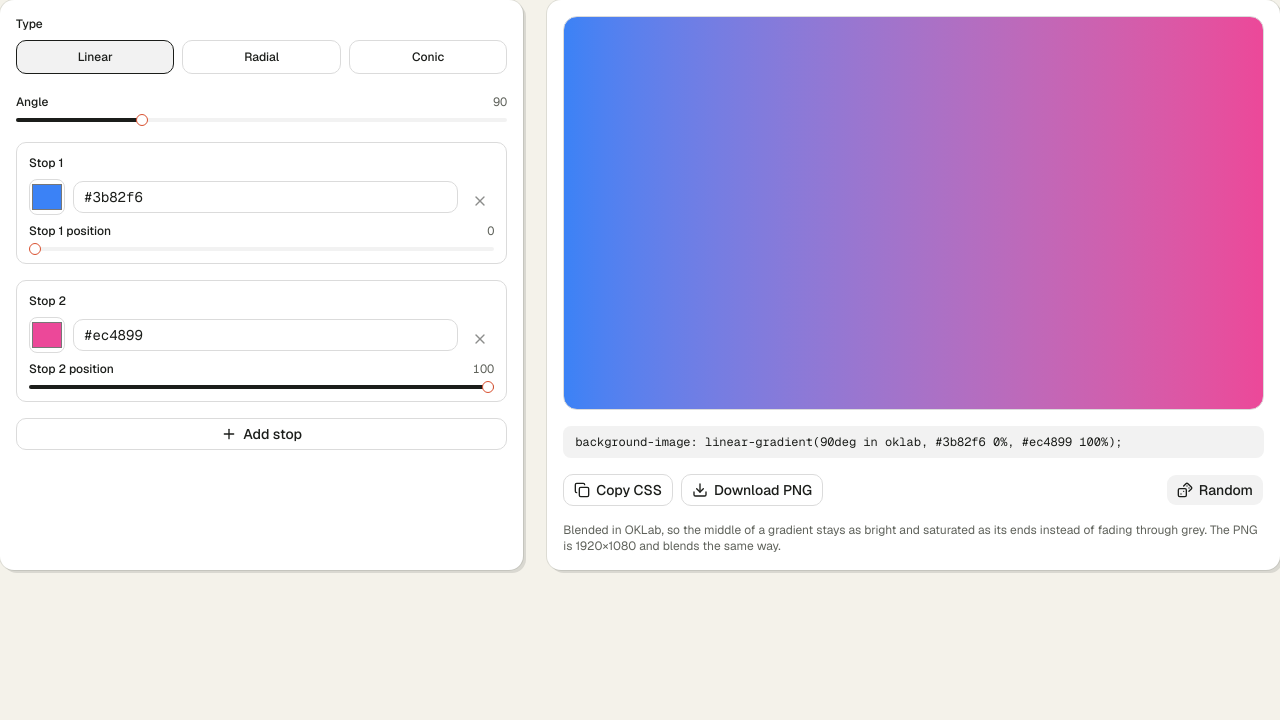
Test: GradientGeneratorTool › adds a stop in the middle and removes it again
Expected: the button named "Remove stop 1" is disabled, [466,187,494,215]
Click the button "Add stop": (262, 434) [16,418,507,450]
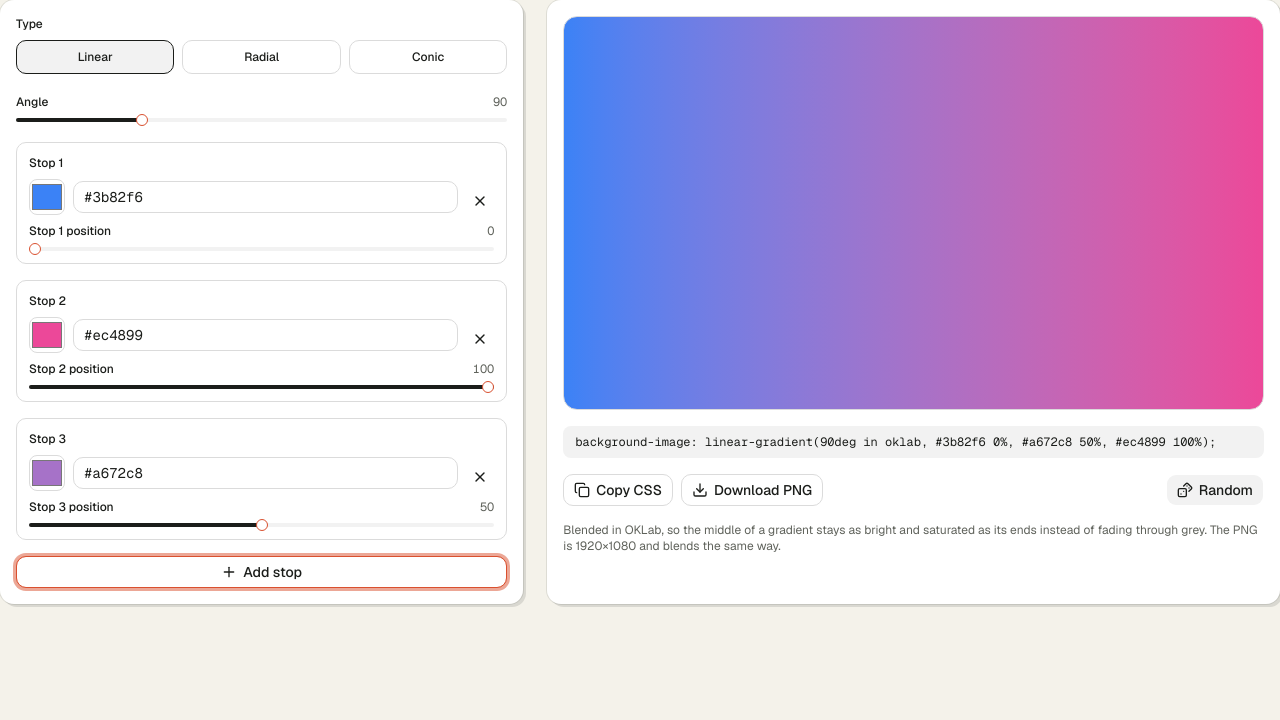
Expected: the text "background-image:" shows "50%,", [705,434,1209,450]
Expected: the button named "Remove stop 3" is enabled
Click the button named "Remove stop 3": (480, 477) [466,463,494,491]
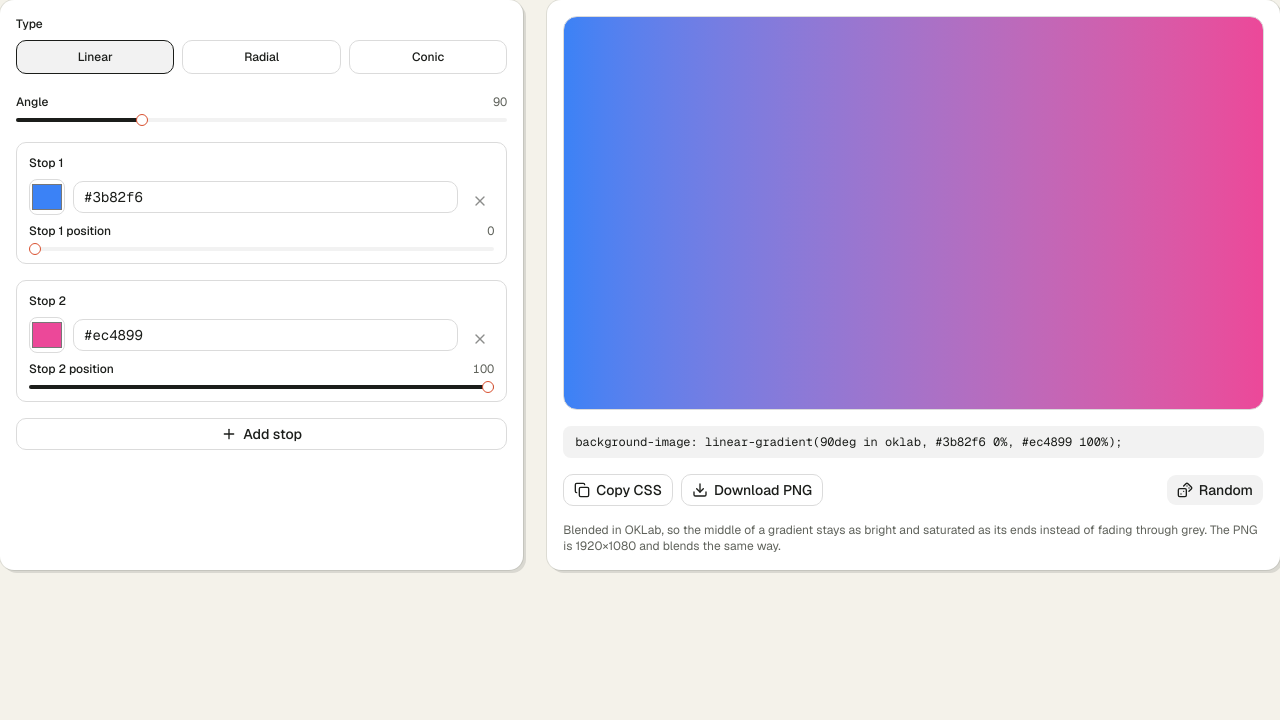
Expected: the text "background-image:" no longer shows "50%"
